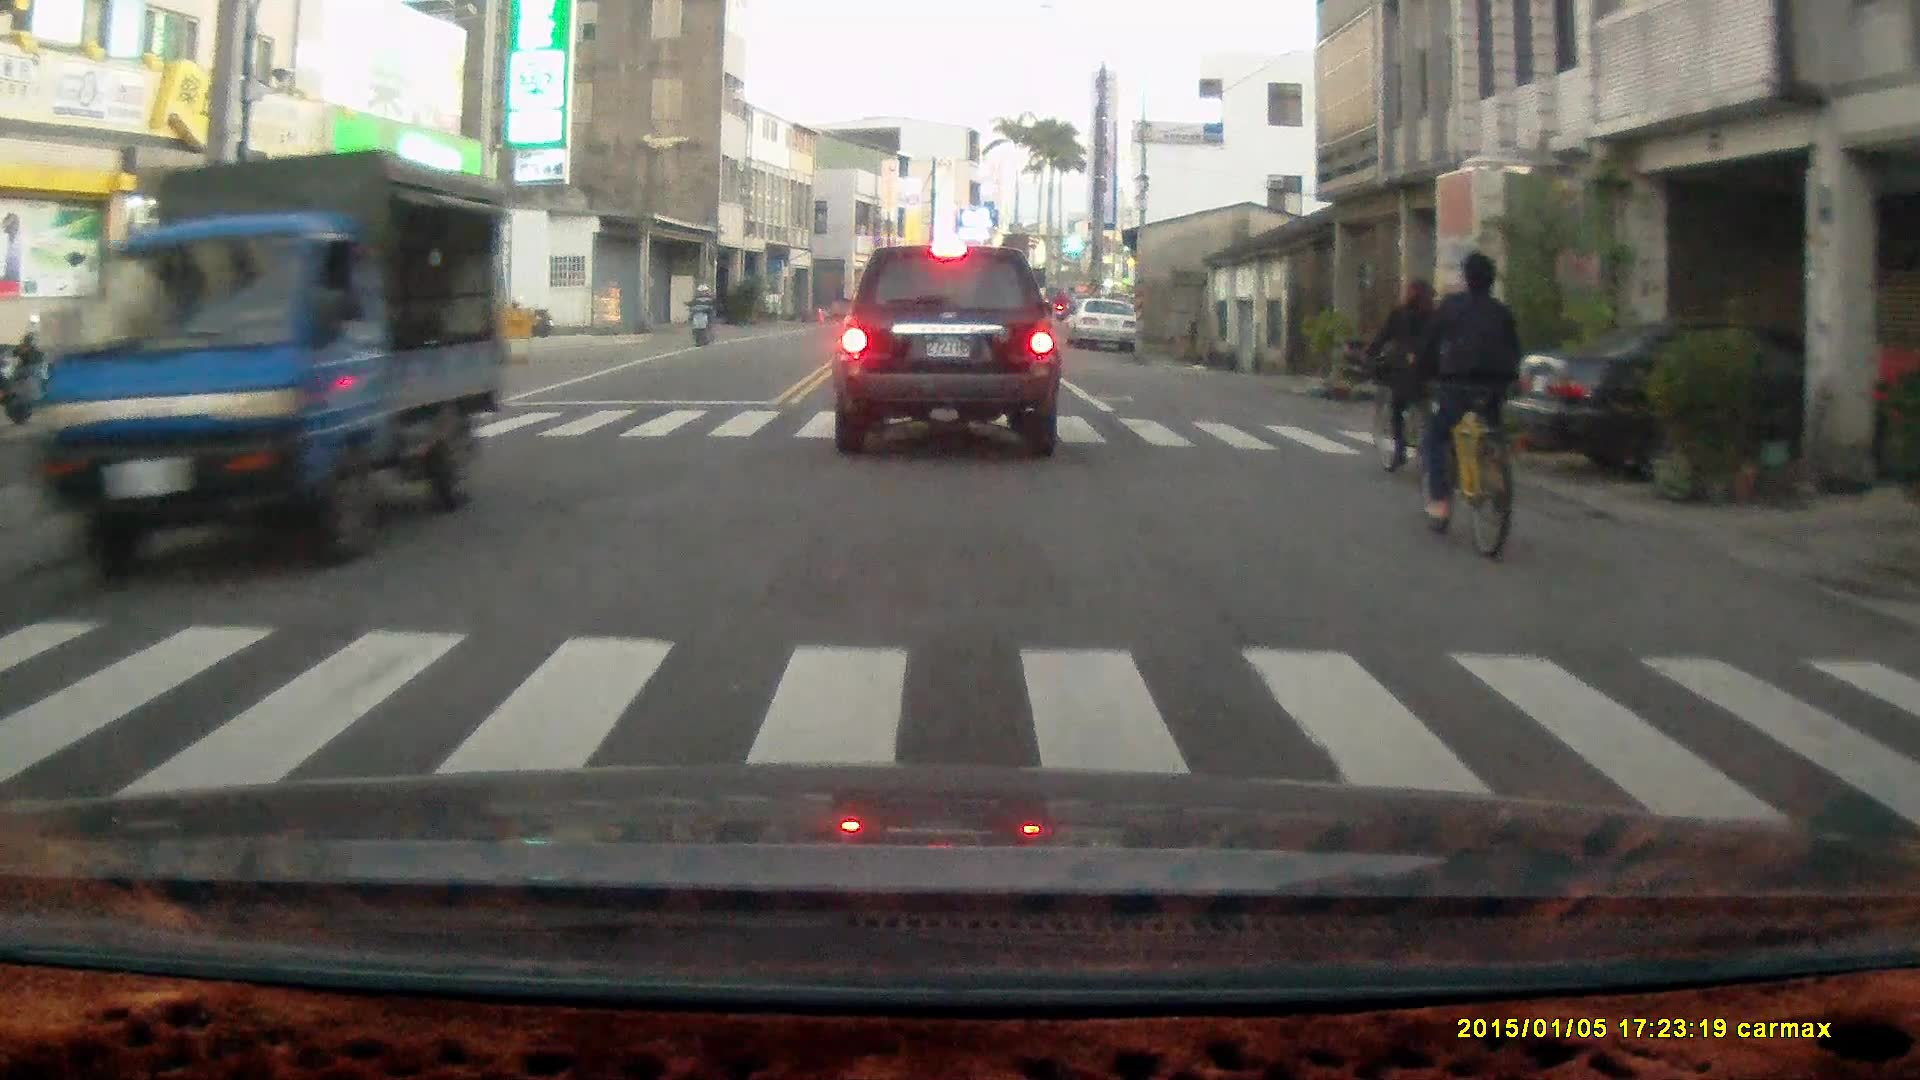rider: (1399, 253, 1519, 566), (1363, 278, 1446, 490), (686, 279, 715, 348)
vehicle: (32, 145, 498, 575), (1503, 315, 1918, 497), (829, 245, 1063, 459), (1065, 298, 1141, 354)
